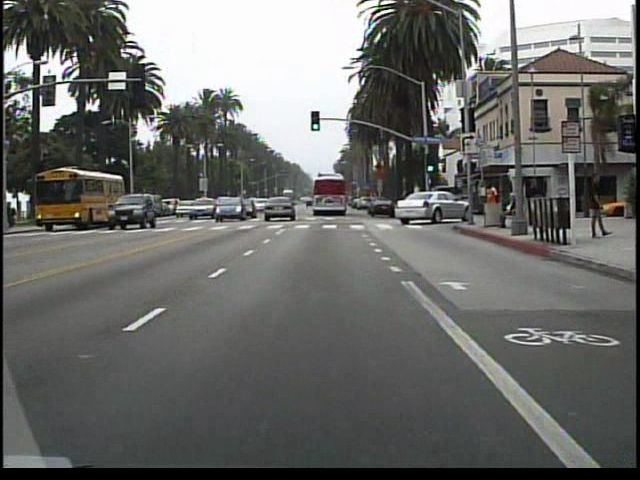person: (582, 169, 608, 243), (525, 177, 544, 229), (498, 187, 516, 235), (482, 180, 500, 227)
